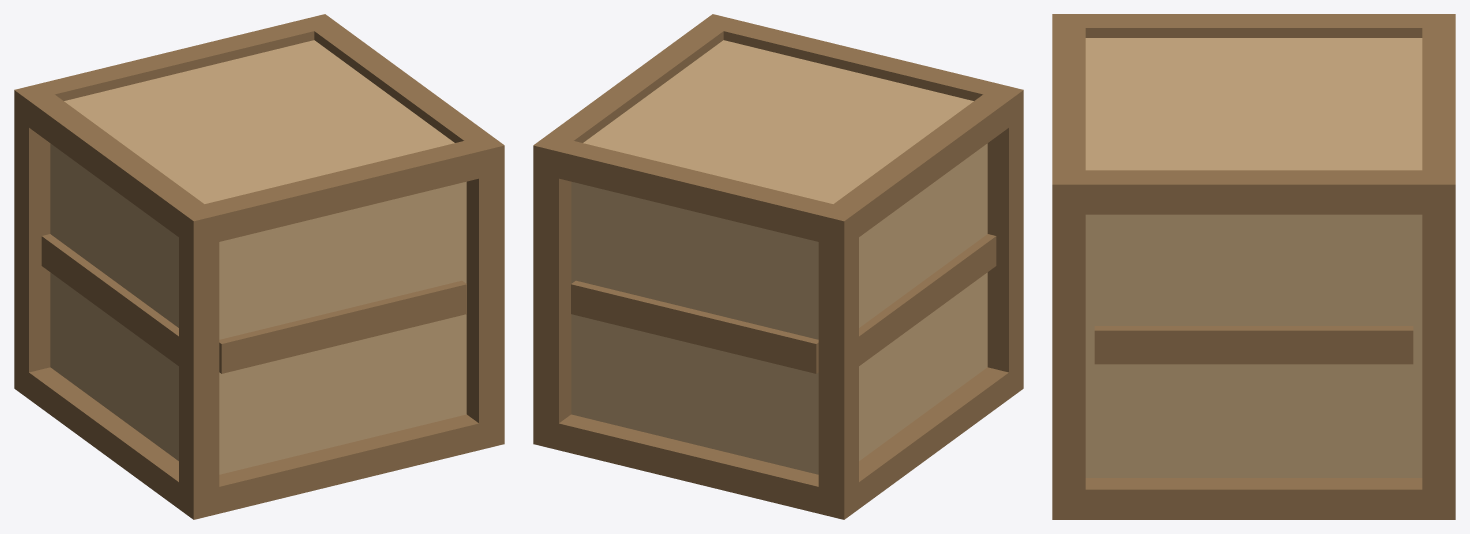
Rendered from crate.glb.
The picture shows the model from 3 angles, left to right: view 1: azimuth 30°, elevation 25°; view 2: azimuth 150°, elevation 25°; view 3: azimuth 270°, elevation 25°; orthographic projection. The views are drawn at different scales.
Parts seen in each view (by area): view 1: Crate; view 2: Crate; view 3: Crate.
Part boxes in pixels (x1,y1,x2,y2): Crate: (14,14,504,519); Crate: (533,14,1023,519); Crate: (1052,14,1455,519).
Size of the model in its own units: 1.09 by 1 by 1.09.
